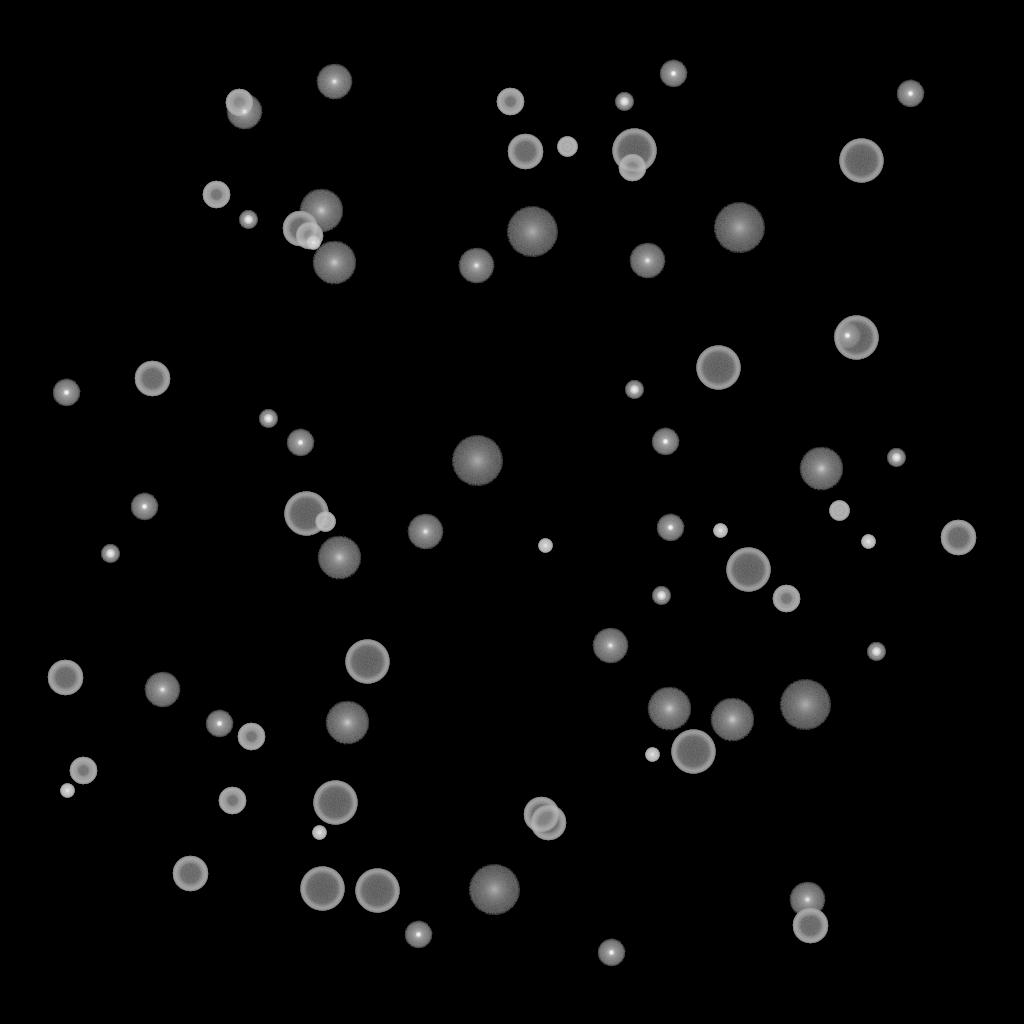depth:-10: (286, 429, 314, 457), (205, 710, 233, 738), (597, 939, 625, 967), (896, 80, 924, 108), (833, 322, 861, 350), (659, 60, 687, 88), (651, 428, 679, 456), (52, 379, 80, 407), (656, 514, 684, 542), (404, 921, 432, 949), (130, 493, 158, 521)
depth:-20: (625, 381, 643, 399), (615, 93, 633, 111), (259, 410, 277, 428), (867, 643, 885, 661), (652, 587, 670, 605), (239, 211, 257, 229), (101, 545, 119, 563), (887, 449, 905, 467)
depth:-30: (538, 539, 552, 553), (645, 748, 659, 762), (861, 535, 875, 549), (713, 524, 727, 538), (312, 826, 326, 840), (306, 236, 320, 250), (60, 784, 74, 798)
depth:-40: (829, 501, 849, 521), (557, 137, 577, 157), (315, 512, 335, 532)
depth:-50: (772, 585, 800, 613), (218, 787, 246, 815), (69, 757, 97, 785), (237, 723, 265, 751), (496, 88, 524, 116), (202, 181, 230, 209), (618, 154, 646, 182), (295, 222, 323, 250), (225, 89, 253, 117)
depth:-60: (530, 805, 566, 841), (47, 660, 83, 696), (172, 856, 208, 892), (523, 797, 559, 833), (792, 908, 828, 944), (134, 361, 170, 397), (507, 134, 543, 170), (282, 211, 318, 247), (940, 520, 976, 556)
depth:-70: (345, 640, 389, 684), (726, 548, 770, 592), (834, 316, 878, 360), (696, 346, 740, 390), (355, 869, 399, 913), (313, 781, 357, 825), (284, 492, 328, 536), (612, 129, 656, 173), (671, 730, 715, 774), (300, 867, 344, 911), (839, 139, 883, 183)
depth:0: (592, 628, 628, 664), (316, 64, 352, 100), (458, 248, 494, 284), (789, 882, 825, 918), (629, 243, 665, 279), (144, 672, 180, 708), (407, 514, 443, 550), (226, 94, 262, 130)
depth:10: (325, 701, 369, 745), (299, 189, 343, 233), (799, 447, 843, 491), (317, 536, 361, 580), (647, 687, 691, 731), (312, 241, 356, 285), (710, 698, 754, 742)
depth:20: (468, 865, 520, 915), (713, 203, 765, 253), (451, 436, 503, 486), (506, 207, 558, 257), (779, 680, 831, 730)
